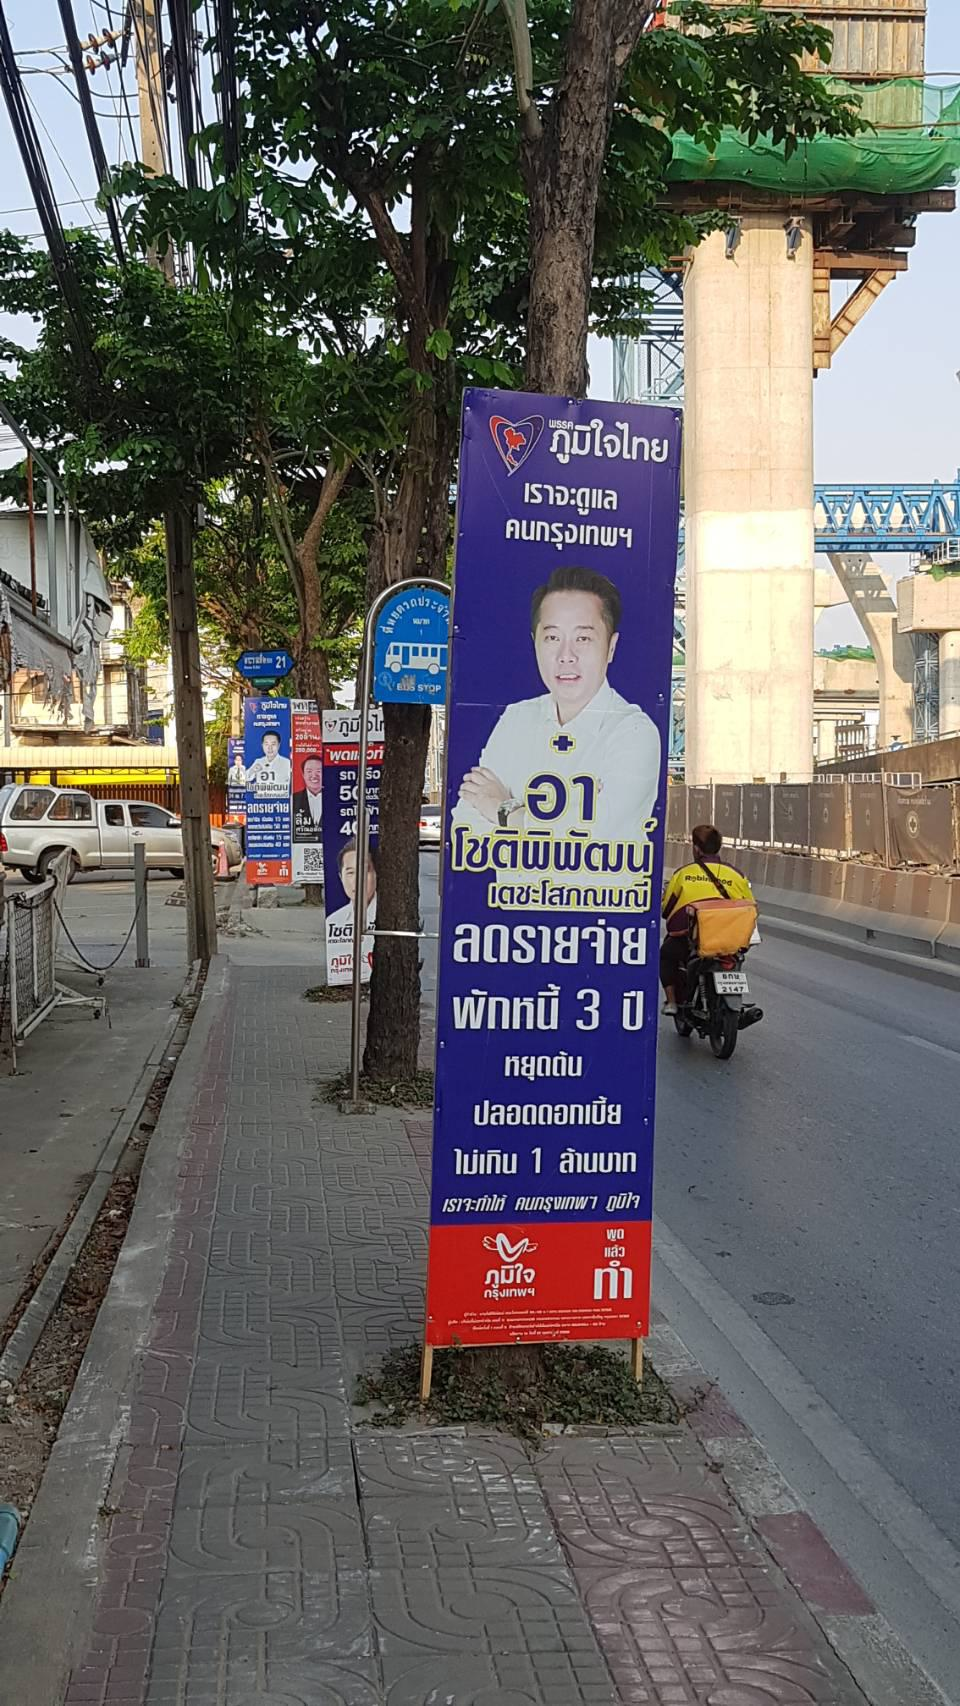Banner: (449, 380, 683, 1349)
